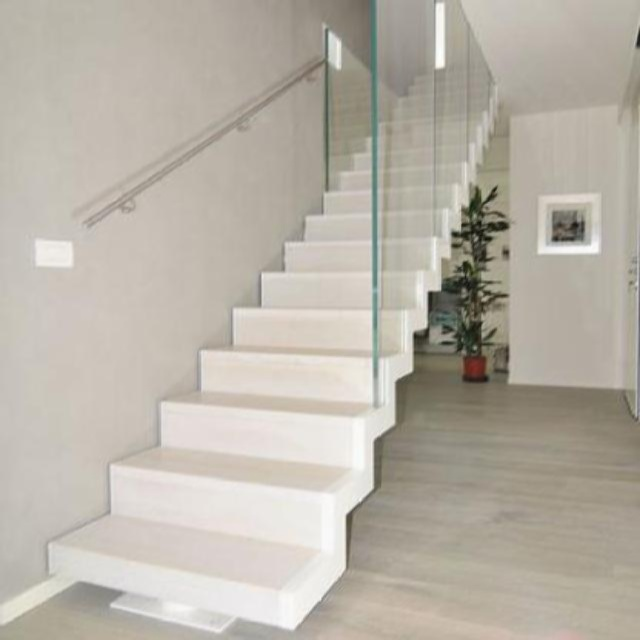stair: (15, 48, 510, 610)
